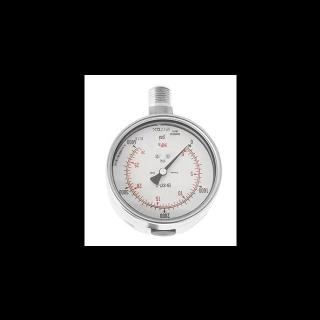gauge: (106, 112, 222, 244), (181, 138, 193, 153), (130, 142, 139, 152), (159, 167, 167, 175), (186, 144, 190, 147)
